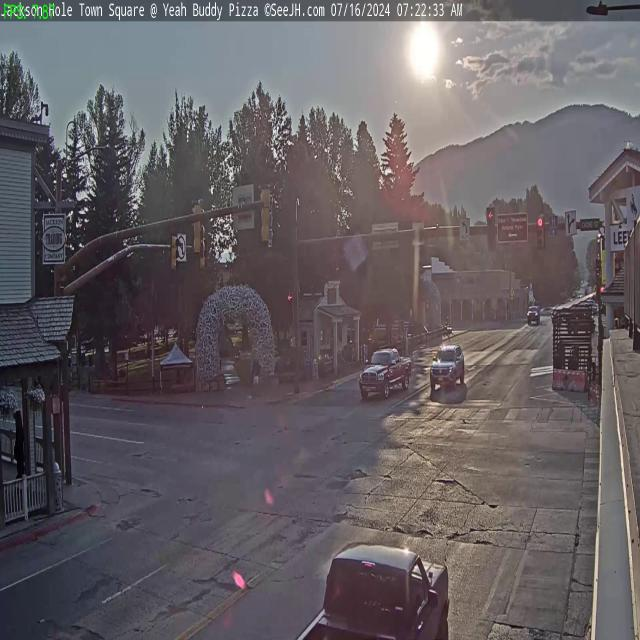pickup: (289, 527, 450, 640), (362, 348, 412, 394)
suv: (429, 340, 466, 390)
traffic light: (190, 198, 204, 255), (261, 184, 273, 245), (486, 207, 496, 250), (172, 231, 181, 273), (536, 214, 545, 249)
